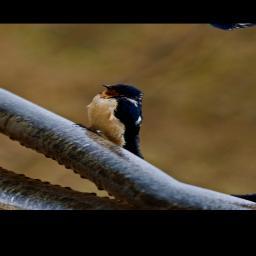Swallow: (50, 77, 204, 160)
